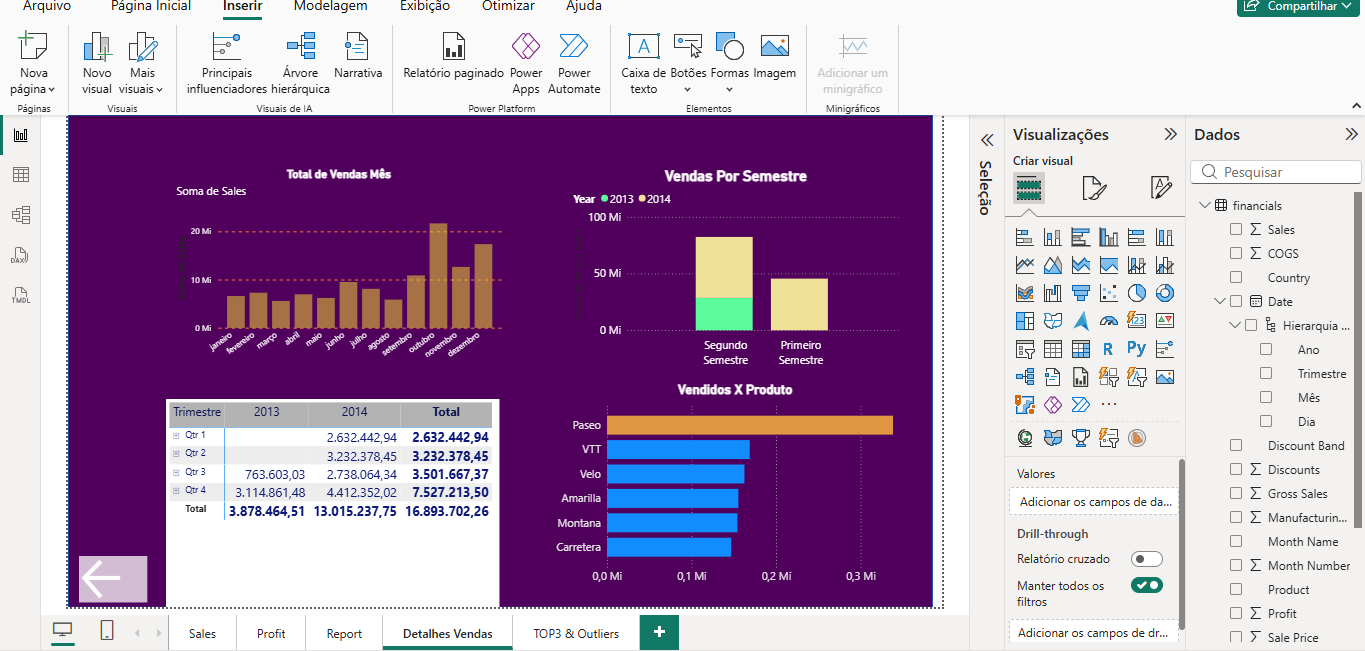

What the dashboard file says about the page in this screenshot:
{"tool":"powerbi","page":{"name":"Detalhes Vendas","canvas":[1280,720],"ordinal":3},"visuals":[{"type":"shape","box":[0,0,1265.7,720.7],"z":0},{"type":"pivotTable","fields":{"Columns":["financials.Date.Variation.Hierarquia de datas.Ano"],"Rows":["financials.Date.Variation.Hierarquia de datas.Trimestre","financials.Date.Variation.Hierarquia de datas.Mês"],"Values":["Sum(financials.Profit)"]},"box":[144,415.2,487.6,304.8],"z":1000},{"type":"columnChart","title":"Vendas Por Semestre","fields":{"Category":["financials.Semestre"],"Series":["financials.Year"],"Y":["Sum(financials.Gross Sales)"]},"box":[734,76,486,300],"z":2000},{"type":"clusteredBarChart","title":"Vendidos X Produto","fields":{"Category":["financials.Product"],"Y":["Sum(financials.Units Sold)"]},"box":[704.5,390.8,545,304.8],"z":3000},{"type":"lineClusteredColumnComboChart","title":"Total de Vendas Mês","fields":{"Category":["financials.Date.Variation.Hierarquia de datas.Mês"],"Y":["Sum(financials. Sales)"]},"box":[154,76,485.9,301.5],"z":4000},{"type":"actionButton","box":[16,646,100,68],"z":4001}]}

Visuals, with their boxes on the page's 1280x720 design canvas (x1, y1, x2, y2). These are canvas units, not pixel positions in the 1365x651 screenshot, which may show the page scaled, cropped or inside an application window:
shape: {"left": 0, "top": 0, "right": 1266, "bottom": 721}
pivotTable - financials.Date.Variation.Hierarquia de datas.Ano x financials.Date.Variation.Hierarquia de datas.Trimestre: {"left": 144, "top": 415, "right": 632, "bottom": 720}
"Vendas Por Semestre" columnChart: {"left": 734, "top": 76, "right": 1220, "bottom": 376}
"Vendidos X Produto" clusteredBarChart: {"left": 704, "top": 391, "right": 1250, "bottom": 696}
"Total de Vendas Mês" lineClusteredColumnComboChart: {"left": 154, "top": 76, "right": 640, "bottom": 378}
actionButton: {"left": 16, "top": 646, "right": 116, "bottom": 714}
